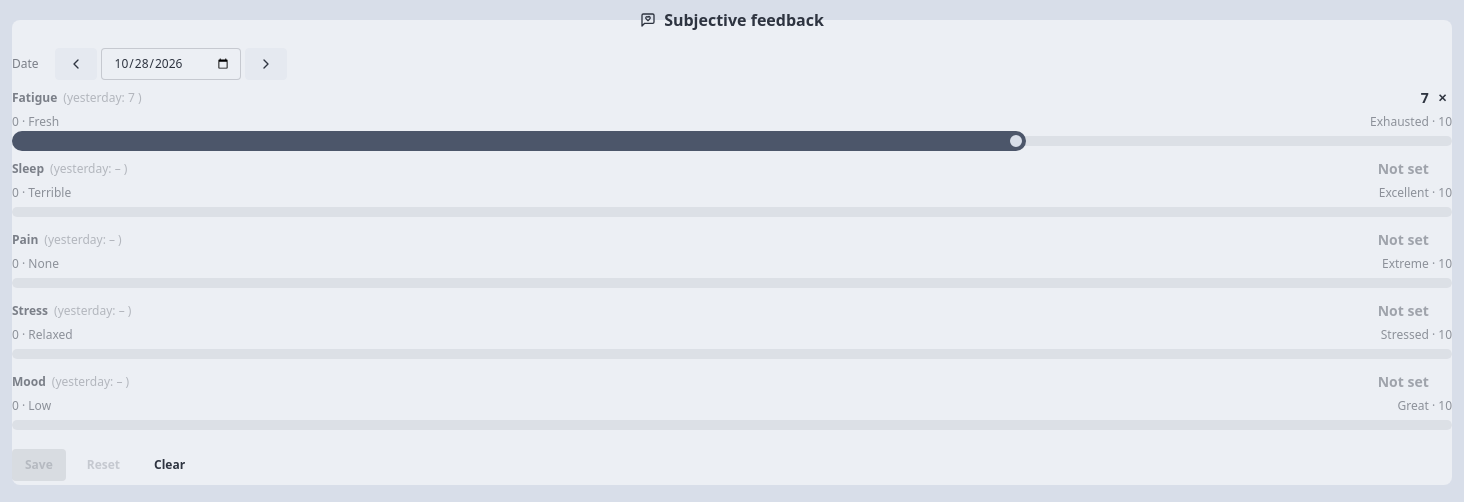
Test: HooperIndexForm › keeps the save button disabled until a measure changes
Check: the button "Save" is disabled, box [12, 449, 66, 481]
Set the slider labelled "fatigue (yesterday: 7 )" to "8" at (1159, 141), box [12, 131, 1452, 151]
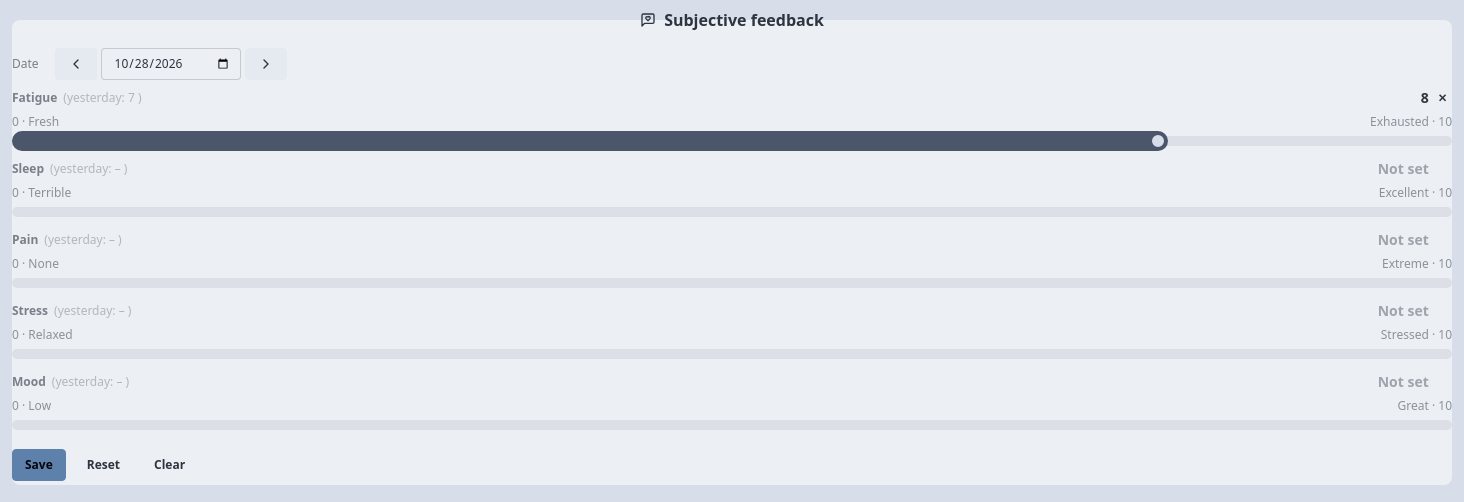
Check: the button "Save" is enabled, box [12, 449, 66, 481]
Set the slider labelled "fatigue (yesterday: 7 )" to "7" at (1017, 141), box [12, 131, 1452, 151]
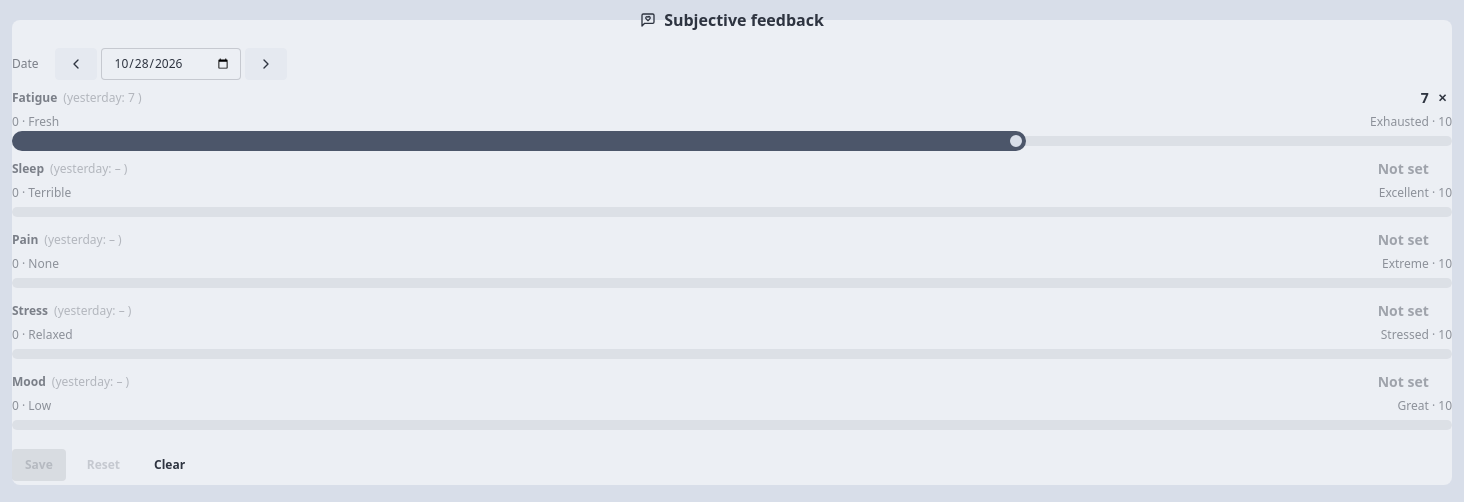
Check: the button "Save" is disabled, box [12, 449, 66, 481]
